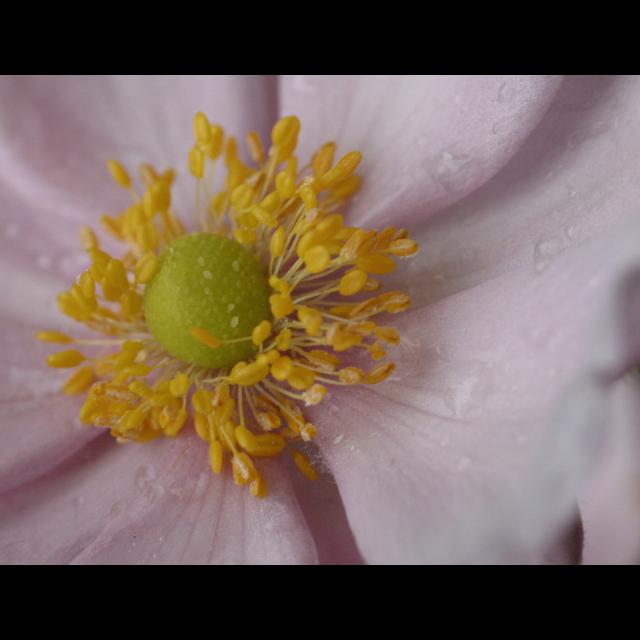Flower: (37, 98, 549, 540)
